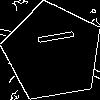I: (27, 27, 75, 49)
